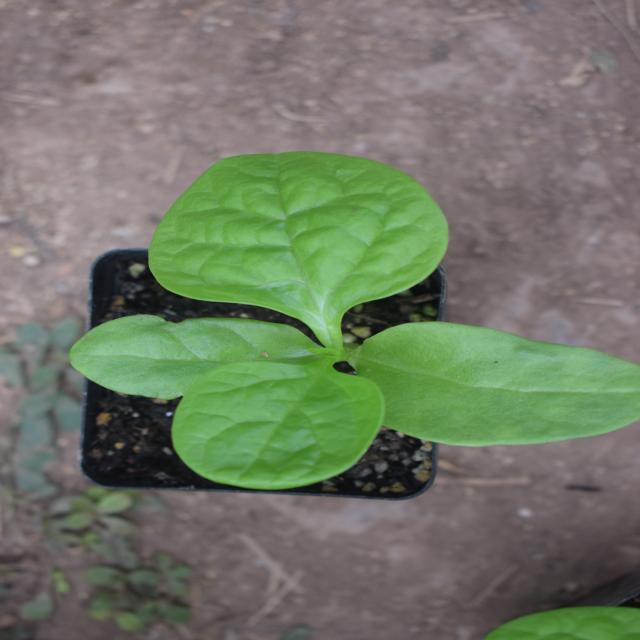Ceylon spinach: (115, 158, 532, 552)
